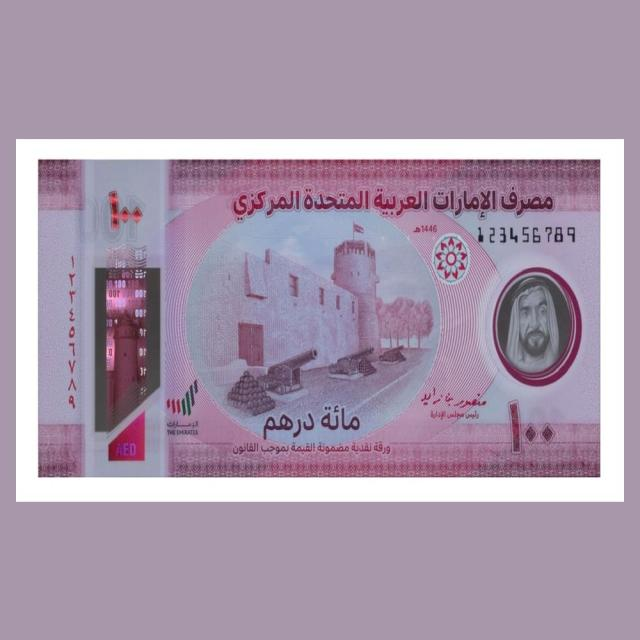100_AED: (38, 156, 599, 472)
